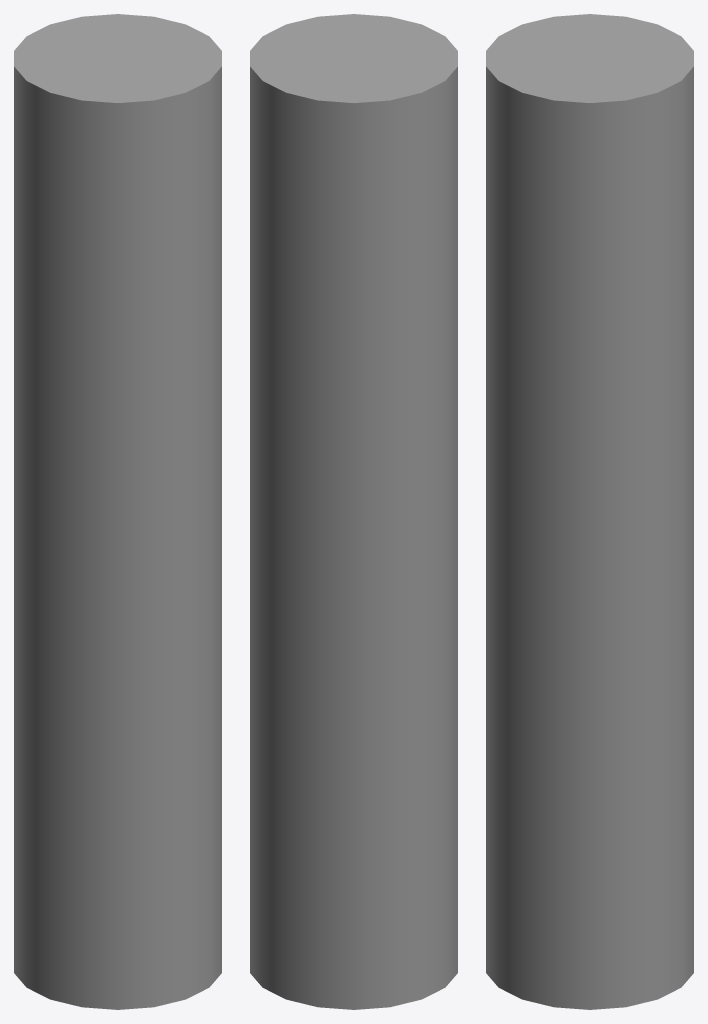
The model's file is bed_leg.FBX.
The picture shows the model from 3 angles, left to right: view 1: azimuth 30°, elevation 25°; view 2: azimuth 150°, elevation 25°; view 3: azimuth 270°, elevation 25°; orthographic projection.
Parts seen in each view (by area): view 1: bed_leg; view 2: bed_leg; view 3: bed_leg.
Boxes of the visible parts, x1,y1,x2,y2 form: bed_leg: (14,14,221,1009); bed_leg: (250,14,457,1009); bed_leg: (486,14,693,1009).
Size of the model in its own units: 4 by 18.96 by 3.94.
